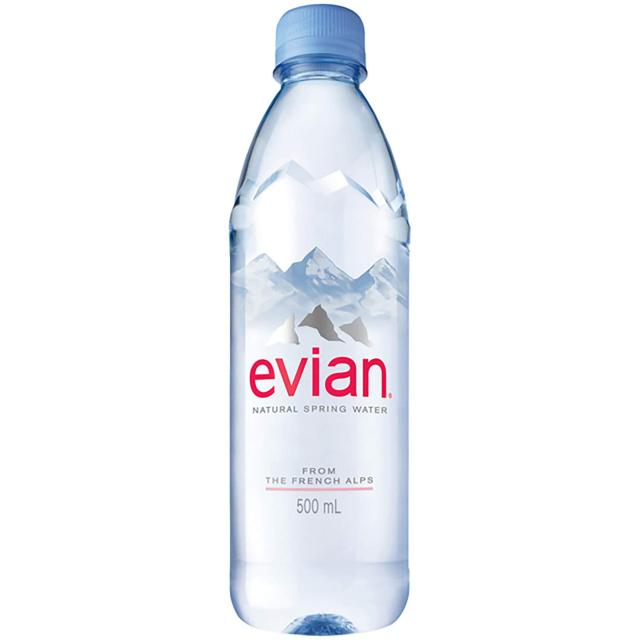bottle: (227, 3, 415, 634)
